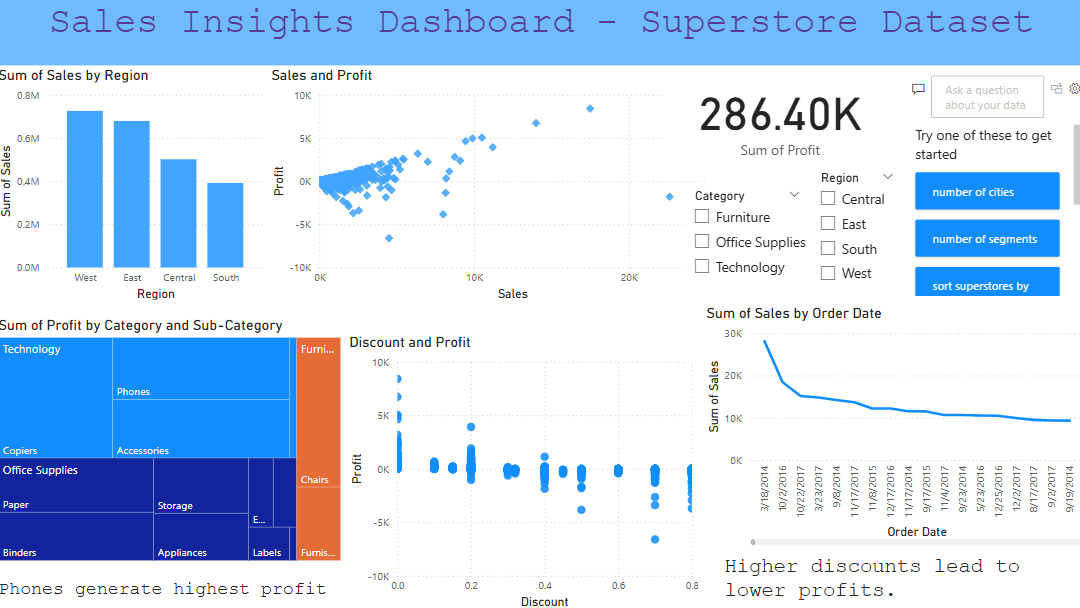

This screenshot's page, from the dashboard's own definition file:
{"tool":"powerbi","page":{"name":"Report","canvas":[1280,720],"ordinal":0},"visuals":[{"type":"columnChart","fields":{"Category":["Superstore.Region"],"Y":["Sum(Superstore.Sales)"]},"box":[0,80,320,278.3],"z":0},{"type":"scatterChart","fields":{"X":["Superstore.Sales"],"Y":["Superstore.Profit"]},"box":[320,80,528.3,278.3],"z":1000},{"type":"treemap","fields":{"Details":["Superstore.Sub-Category"],"Values":["Sum(Superstore.Profit)"],"Group":["Superstore.Category"]},"box":[0,373.3,410,290],"z":2000},{"type":"lineChart","fields":{"Category":["Superstore.Order Date"],"Y":["Sum(Superstore.Sales)"]},"box":[828.3,360,451.7,286.7],"z":3000},{"type":"scatterChart","fields":{"X":["Superstore.Discount"],"Y":["Superstore.Profit"]},"box":[410,393.3,418.3,326.7],"z":4000},{"type":"textbox","box":[0,675,410,45],"z":5000},{"type":"textbox","box":[848.3,646.7,431.7,73.3],"z":6000},{"type":"qnaVisual","box":[1065,66.7,215,291.7],"z":7000},{"type":"slicer","fields":{"Values":["Superstore.Region"]},"box":[955,198.3,110,145],"z":8000},{"type":"slicer","fields":{"Values":["Superstore.Category"]},"box":[806.7,220,148.3,131.7],"z":9000},{"type":"card","fields":{"Values":["Sum(Superstore.Profit)"]},"box":[785,80,270,118.3],"z":10000},{"type":"textbox","box":[0,0,1280,80],"z":11000}]}

Visuals, with their boxes in screenshot pixels (x1, y1, x2, y2), scaled from the page's 1280x720 canvas onto the 1080x608 screenshot:
columnChart - Superstore.Region x Sum(Superstore.Sales): 0,68,270,303
scatterChart - Superstore.Sales x Superstore.Profit: 270,68,716,303
treemap - Superstore.Sub-Category x Sum(Superstore.Profit): 0,315,346,560
lineChart - Superstore.Order Date x Sum(Superstore.Sales): 699,304,1079,546
scatterChart - Superstore.Discount x Superstore.Profit: 346,332,699,607
textbox: 0,570,346,607
textbox: 716,546,1079,607
qnaVisual: 899,56,1079,303
slicer - Superstore.Region: 806,167,899,290
slicer - Superstore.Category: 681,186,806,297
card - Sum(Superstore.Profit): 662,68,890,167
textbox: 0,0,1079,68
